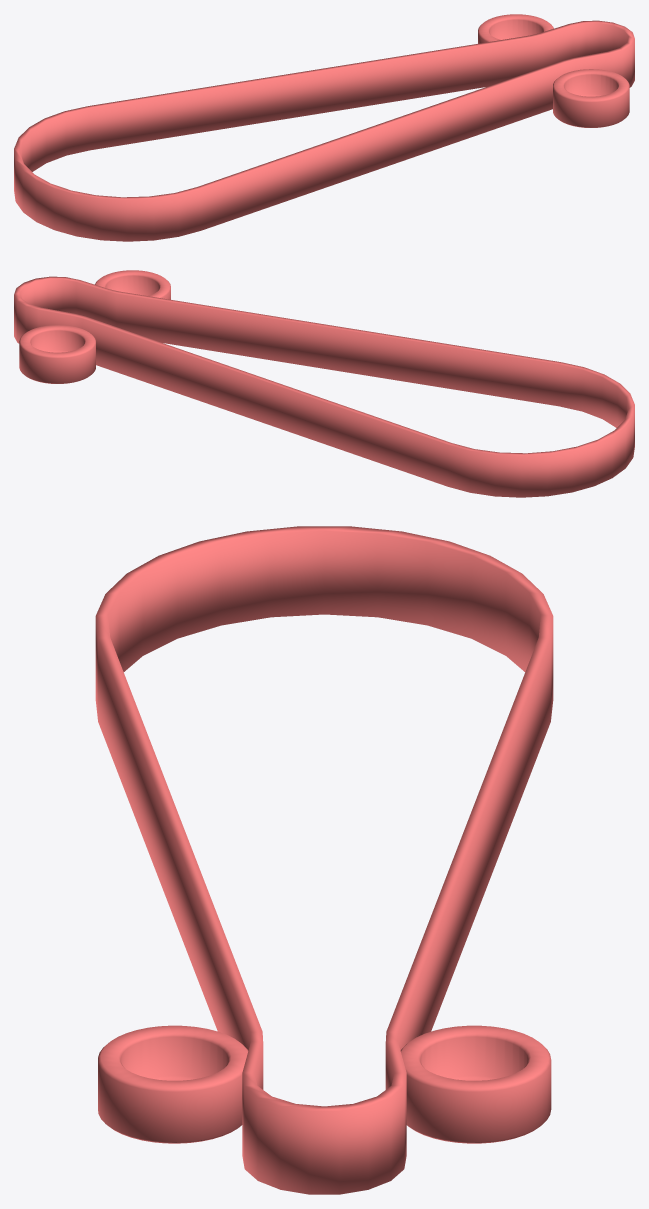
The model's file is solo12_hip_fe_hl_4.obj.
The picture shows the model from 3 angles, top to bottom: view 1: azimuth 30°, elevation 25°; view 2: azimuth 150°, elevation 25°; view 3: azimuth 270°, elevation 25°; orthographic projection. The views are drawn at different scales.
Bounding box in the file's own units: 0.09 × 0.006 × 0.0298.
